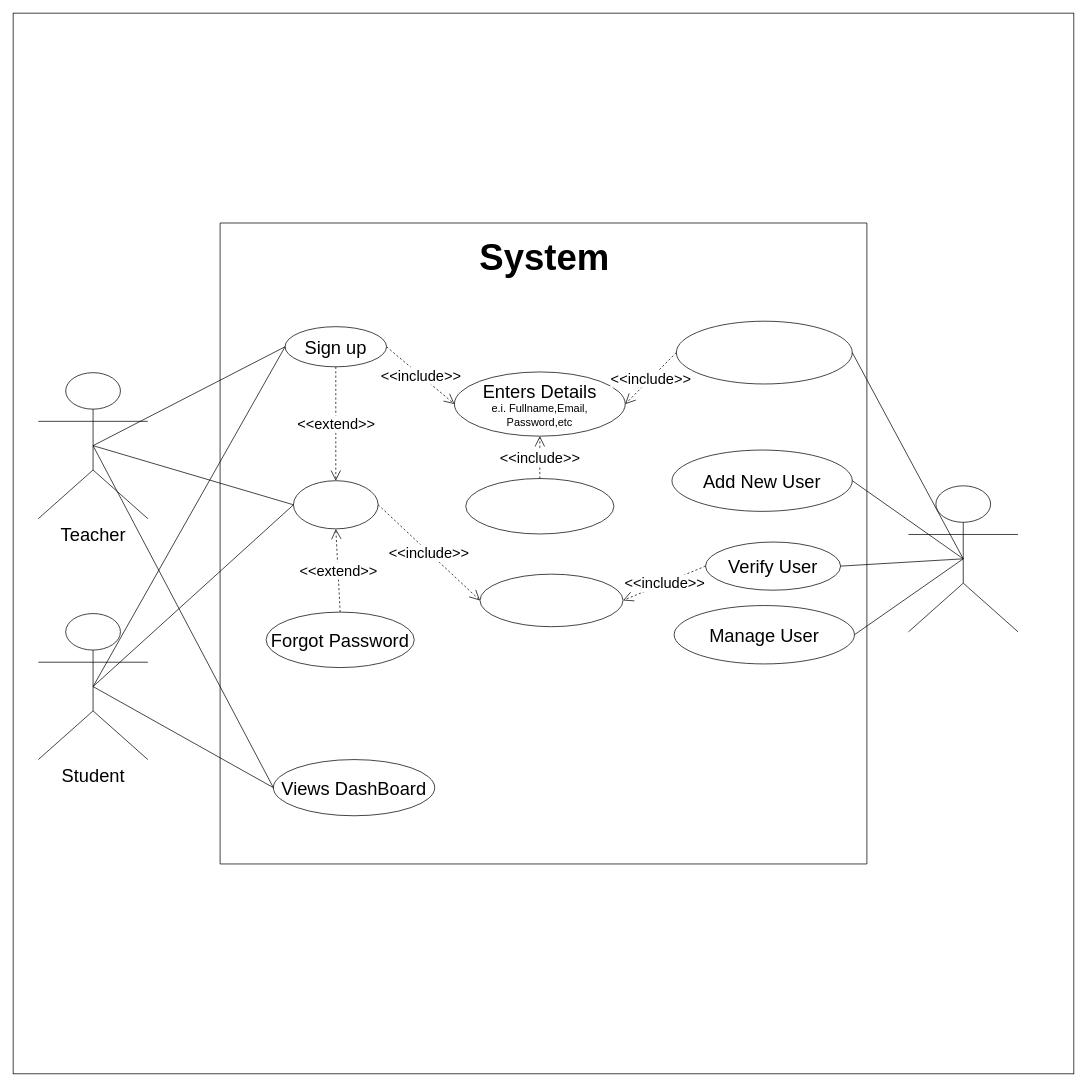
This 1086x1086 diagram has some shape labels left out. The centre of each missing label's shape, as x and y in pixels:
"Admin" goes at [963,558].
"Enters ID-Pass" goes at [551,600].
"Login" goes at [335,504].
"OTP Varification" goes at [539,506].
"Validating Details" goes at [764,352].
